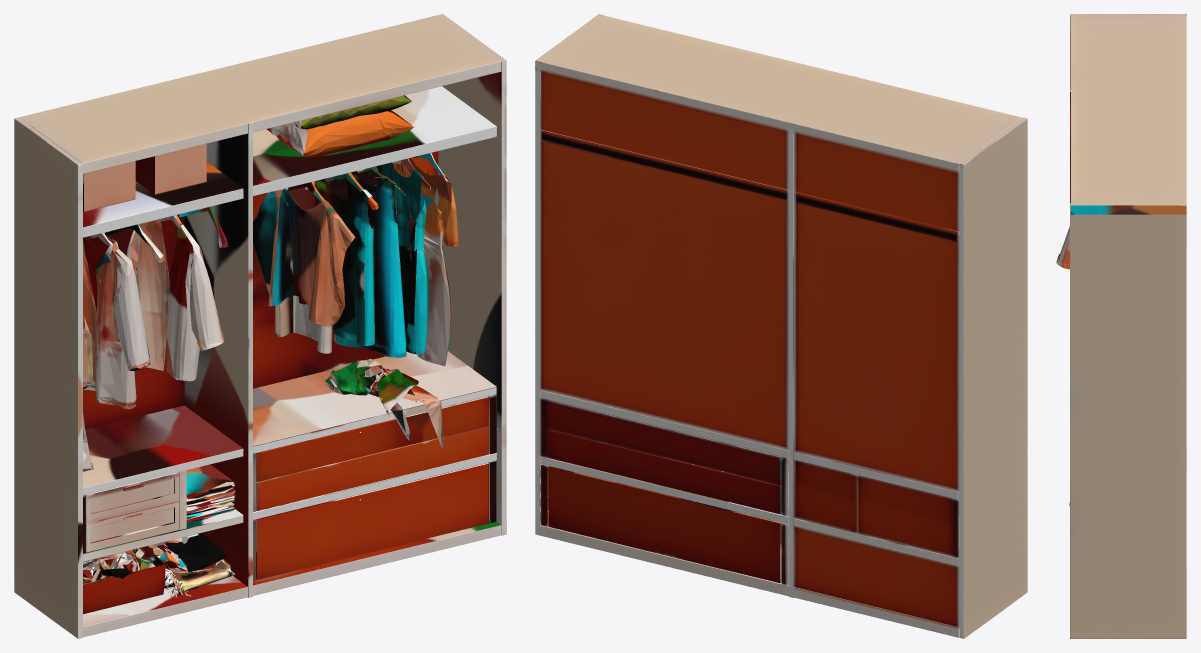
Rendered from edited_mesh.glb.
3 renders of one model, left to right at view 1: azimuth 30°, elevation 25°; view 2: azimuth 150°, elevation 25°; view 3: azimuth 270°, elevation 25°, orthographic. The views are drawn at different scales.
Visible parts, largest first — view 1: solid_001_wire; view 2: solid_001_wire; view 3: solid_001_wire.
Part boxes in pixels (x1,y1,x2,y2): solid_001_wire: (14, 14, 506, 638); solid_001_wire: (535, 14, 1027, 638); solid_001_wire: (1056, 14, 1186, 638).
Size of the model in its own units: 1.28 by 1.36 by 0.3697.
Materials: 1 (1 with a texture image).
